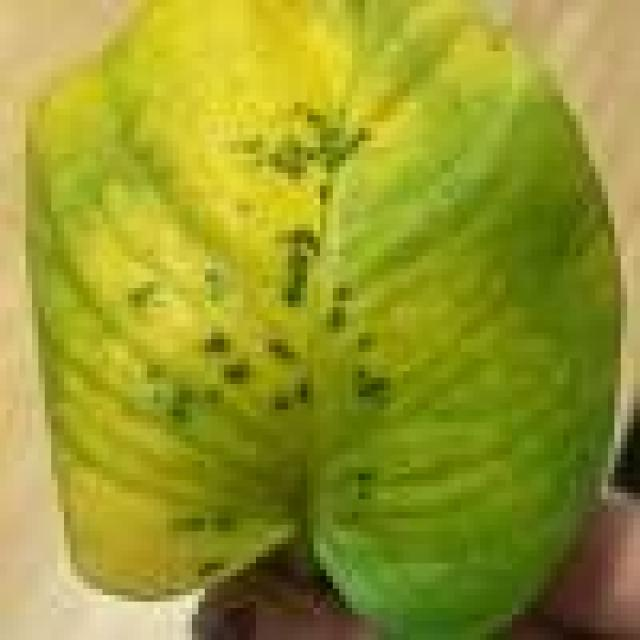bercak_daun: (25, 0, 614, 518)
